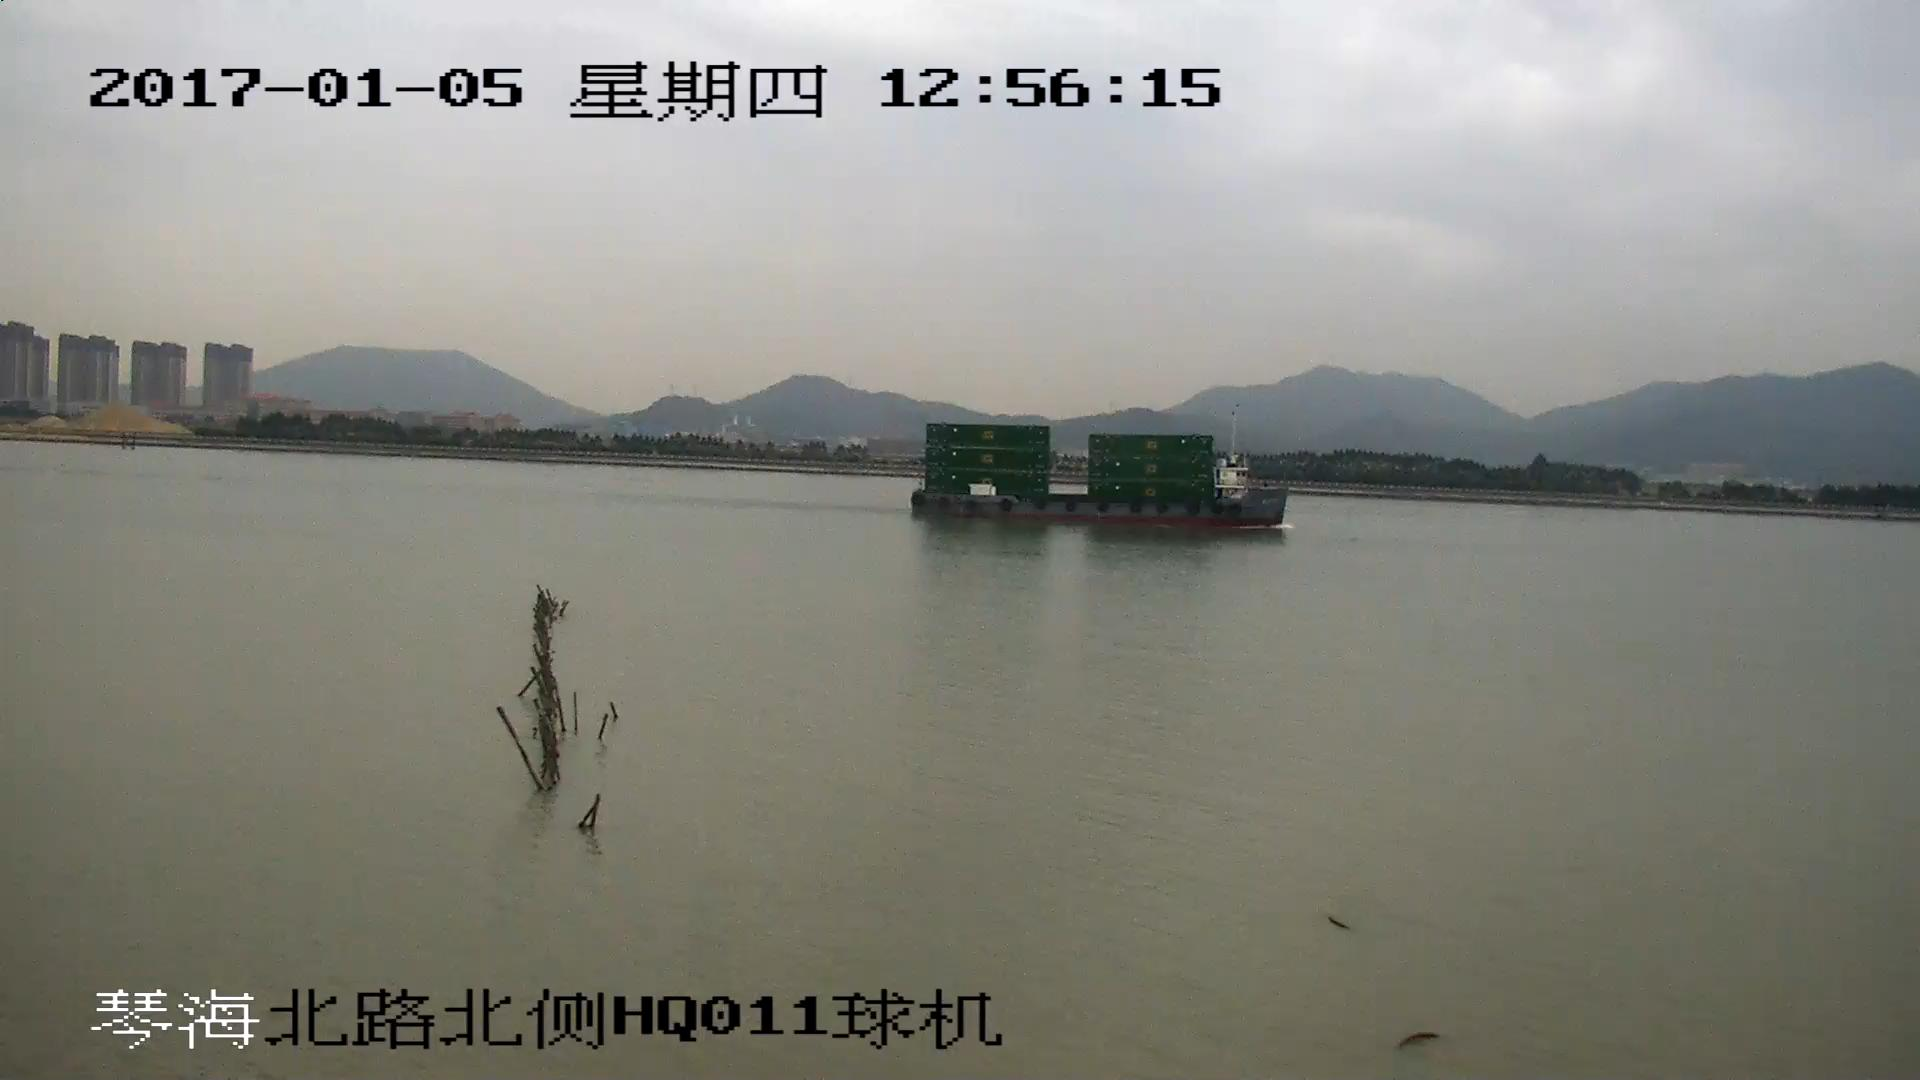container ship: (916, 423, 1285, 529)
